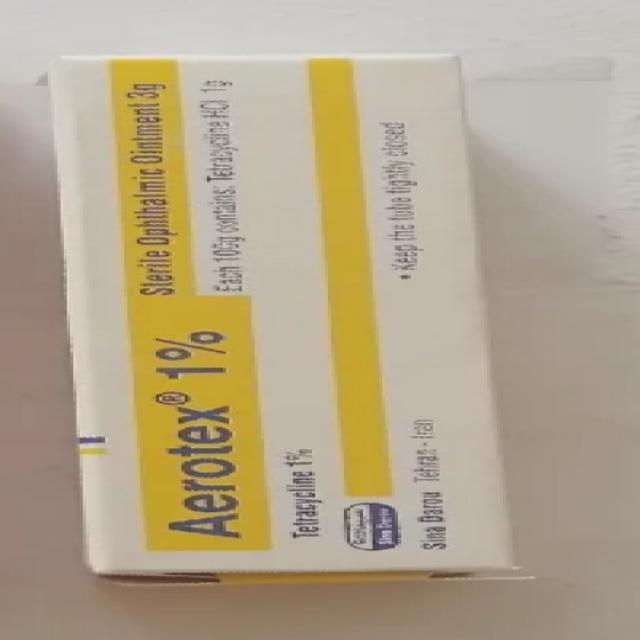drug-name: (165, 404, 244, 540)
